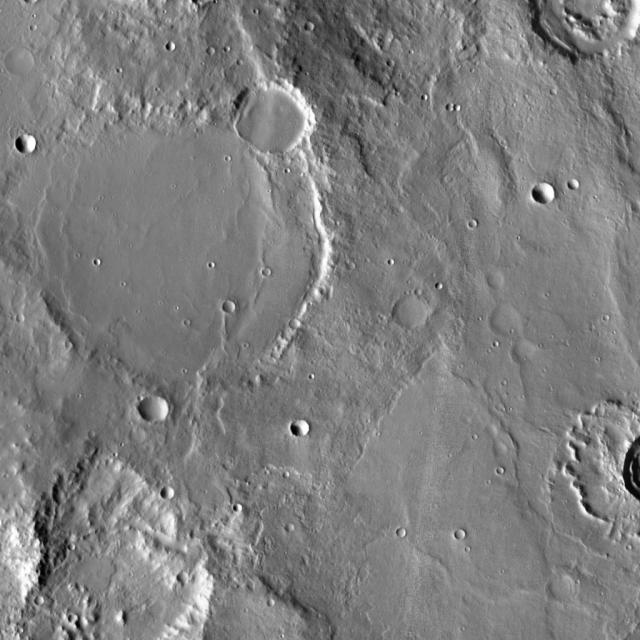crater: (28, 100, 333, 390), (27, 525, 214, 640), (37, 459, 178, 594), (529, 0, 640, 57), (234, 78, 314, 154), (492, 305, 528, 340), (396, 300, 430, 332), (548, 571, 582, 603), (140, 394, 171, 424), (6, 48, 36, 76), (512, 340, 537, 364), (534, 183, 558, 205), (18, 134, 38, 154), (293, 418, 311, 435), (131, 427, 148, 442), (162, 484, 178, 499), (77, 616, 91, 630), (224, 300, 238, 312), (570, 179, 582, 191), (180, 572, 192, 584), (457, 530, 467, 540), (292, 317, 302, 327), (38, 598, 47, 607), (236, 502, 245, 511), (400, 527, 409, 536), (288, 522, 298, 530), (70, 614, 80, 622), (448, 102, 457, 110), (500, 469, 508, 477), (438, 281, 446, 289), (410, 280, 418, 288), (262, 590, 270, 598), (168, 45, 176, 52), (308, 21, 316, 28), (473, 222, 481, 229), (208, 46, 216, 53), (390, 57, 397, 65), (18, 315, 26, 322), (83, 423, 91, 430), (70, 543, 78, 550), (350, 261, 358, 268), (259, 262, 267, 268), (449, 96, 456, 102), (279, 464, 285, 470)
